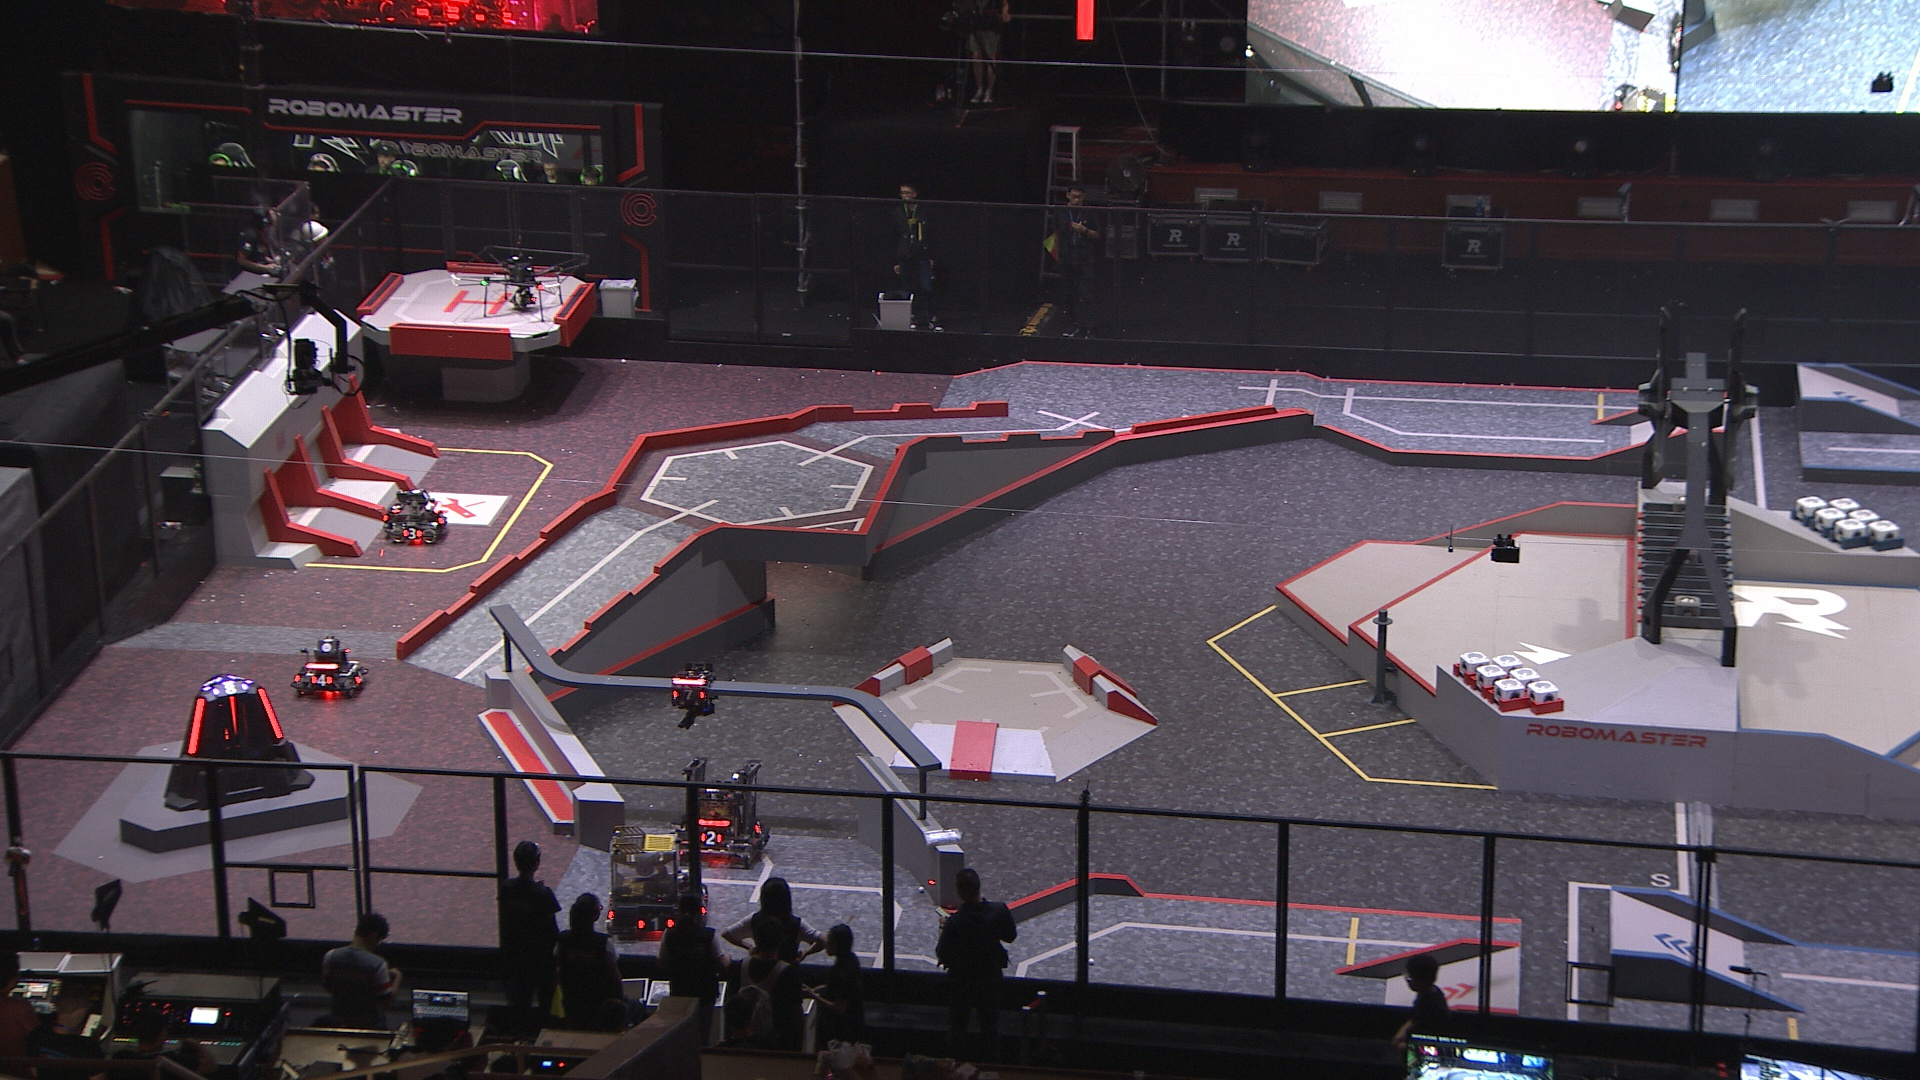armor: (255, 684, 285, 742), (182, 698, 208, 760), (633, 915, 676, 932), (225, 694, 240, 732), (670, 688, 707, 703), (401, 524, 425, 542), (699, 829, 724, 847), (749, 818, 767, 839), (306, 673, 332, 687), (351, 665, 367, 687), (386, 498, 405, 517), (429, 517, 447, 529)
base: (160, 669, 315, 814)
car: (603, 825, 711, 945), (676, 756, 775, 864), (291, 632, 371, 698), (381, 484, 452, 546)
ignore: (210, 679, 251, 698), (200, 674, 224, 692), (229, 670, 252, 684)
watcher: (665, 657, 719, 731)
